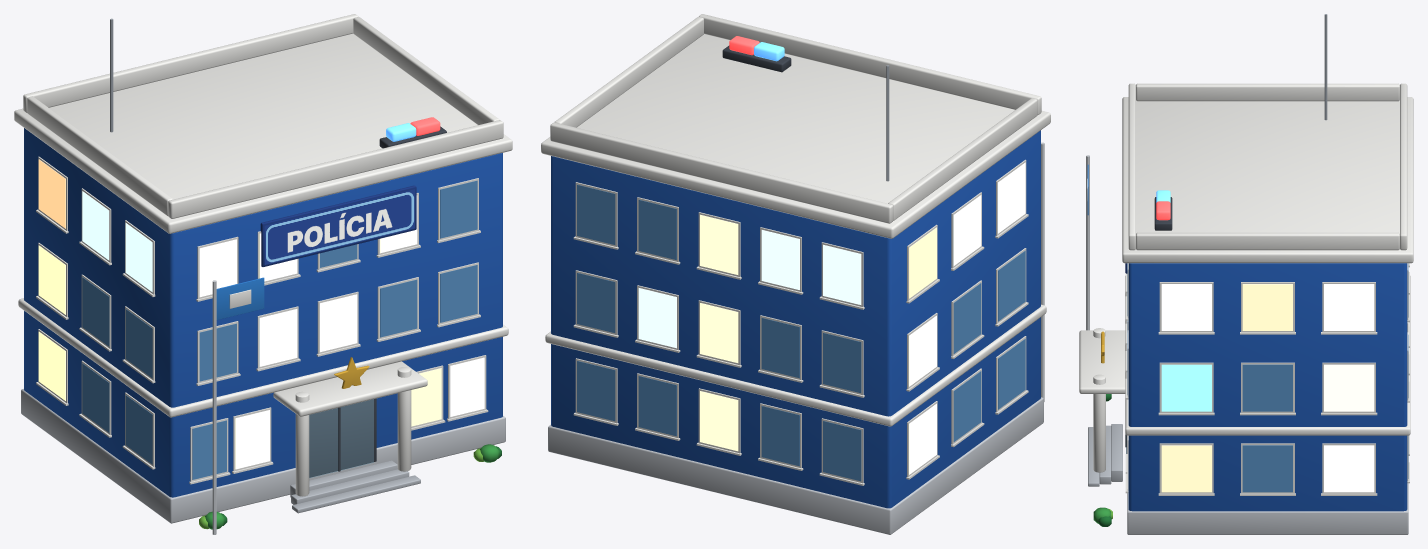
Rendered from delegacia.glb.
The picture shows the model from 3 angles, left to right: view 1: azimuth 30°, elevation 25°; view 2: azimuth 150°, elevation 25°; view 3: azimuth 270°, elevation 25°; orthographic projection. The views are drawn at different scales.
Parts seen in each view (by area): view 1: delegacia; view 2: delegacia; view 3: delegacia.
Boxes of the visible parts, x1=… form: delegacia: x1=14, y1=14, x2=512, y2=534; delegacia: x1=541, y1=14, x2=1050, y2=534; delegacia: x1=1079, y1=14, x2=1413, y2=534.
Size of the model in its own units: 12.84 by 14.85 by 11.52.
11 materials, 2 textured.
